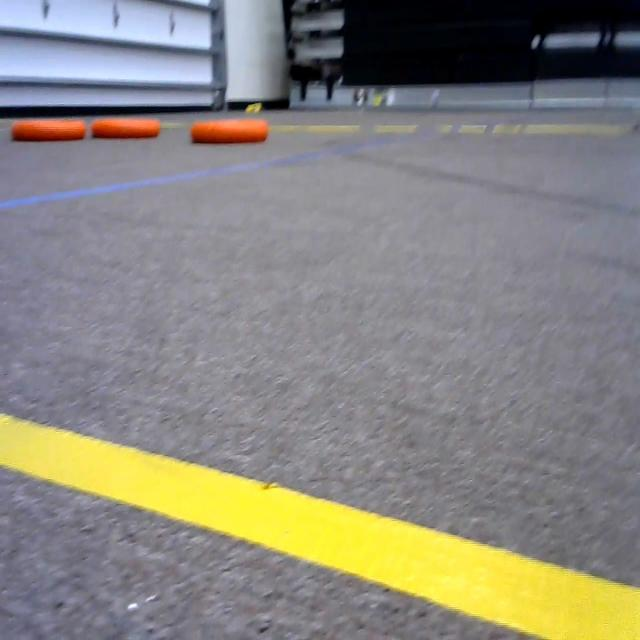note: (8, 102, 88, 147), (192, 111, 274, 148), (90, 111, 161, 144)
